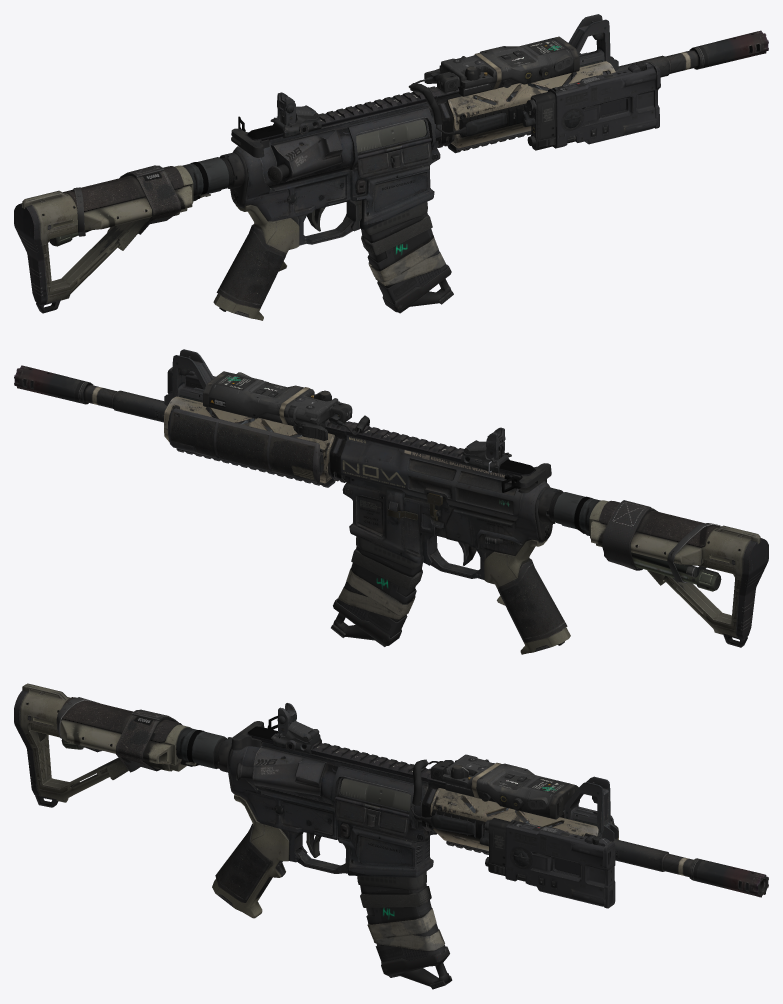
3 renders of one model, top to bottom at view 1: azimuth 30°, elevation 25°; view 2: azimuth 150°, elevation 25°; view 3: azimuth 330°, elevation 25°, orthographic.
Visible parts, largest first — view 1: weapon_kb_m4_wm_camo_LOD0_0; view 2: weapon_kb_m4_wm_camo_LOD0_0; view 3: weapon_kb_m4_wm_camo_LOD0_0.
Part boxes in pixels (left/top/right/bottom): weapon_kb_m4_wm_camo_LOD0_0: left=14, top=14, right=768, bottom=320; weapon_kb_m4_wm_camo_LOD0_0: left=14, top=349, right=768, bottom=654; weapon_kb_m4_wm_camo_LOD0_0: left=14, top=683, right=768, bottom=989.
Size of the model in its own units: 20.81 by 6.55 by 2.35.
Materials: 8 (6 with a texture image).
